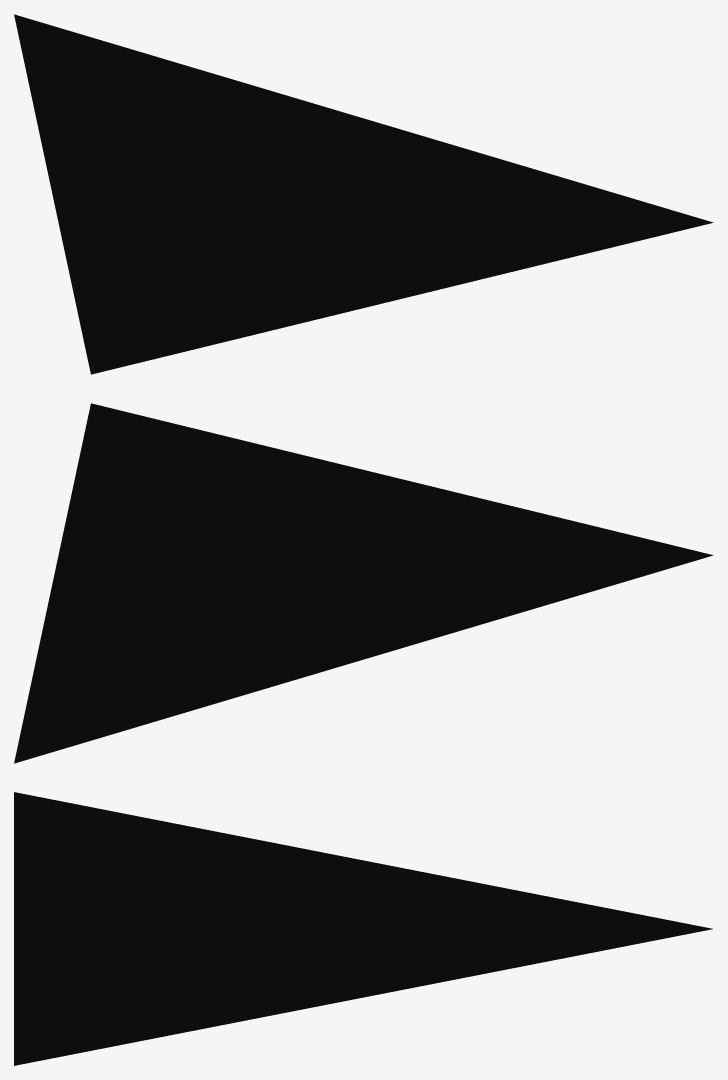
File: Shadow.dae
3 views of the same model, one above another, from view 1: azimuth 30°, elevation 25°; view 2: azimuth 150°, elevation 25°; view 3: azimuth 270°, elevation 25° (orthographic). The views are drawn at different scales.
Visible parts, largest first — view 1: Mesh0; view 2: Mesh0; view 3: Mesh0.
Boxes of the visible parts, x1,y1,x2,y2 form: Mesh0: (14, 14, 713, 374); Mesh0: (14, 403, 713, 763); Mesh0: (14, 792, 712, 1065).
Size of the model in its own units: 250 by 0 by 271.
Materials: 1 (1 with a texture image).
